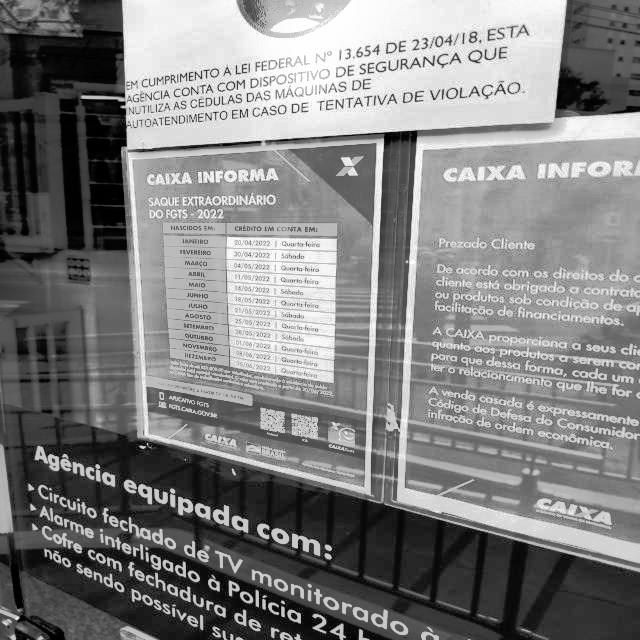qr_code: (292, 414, 319, 440), (260, 407, 285, 434)
